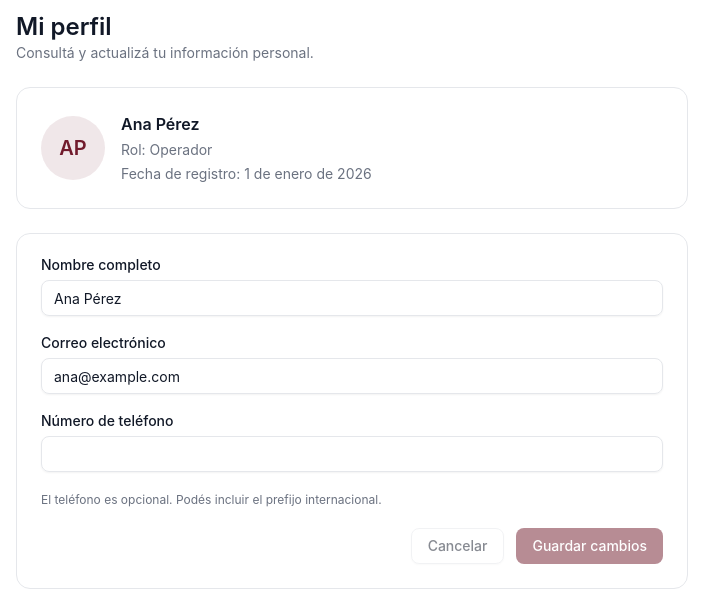
it: Mi perfil › guarda, bloquea mientras envía y sincroniza la sesión
This screenshot has width=705, height=606.
Replace the text in the field labelled "Nombre completo" with "Ana Nueva" at point(352, 298), box [41,280,663,316]
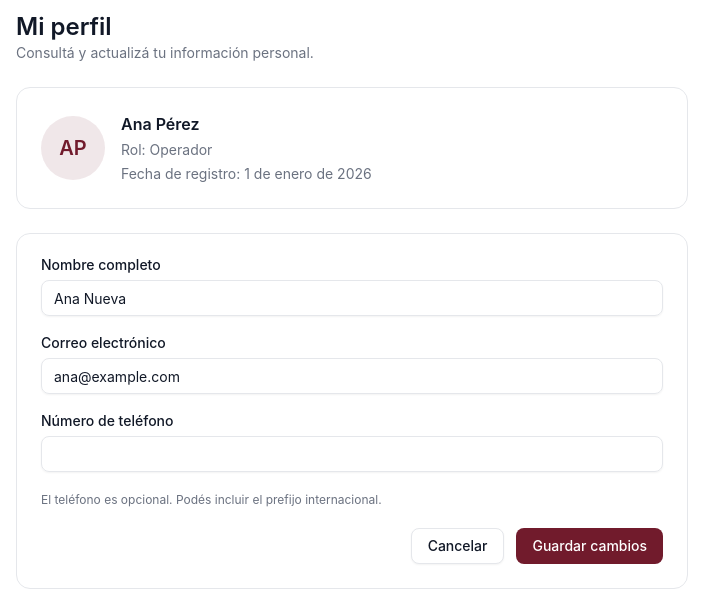
Click the button "Guardar cambios" at point(590, 546), box [516,528,663,564]
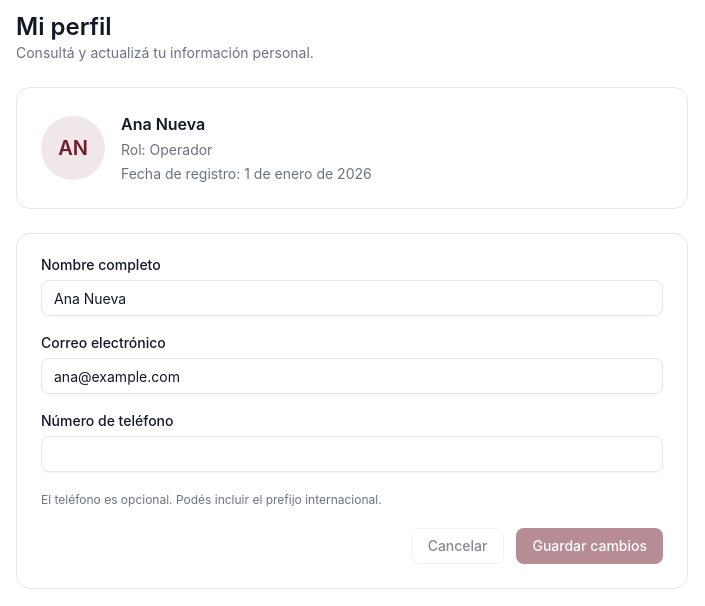
Expected: the button named "Guardando…" is disabled, [516,528,663,564]
Expected: the button "Guardar cambios" is disabled, [516,528,663,564]
